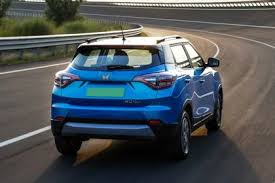XUV 400: (49, 27, 224, 161)
